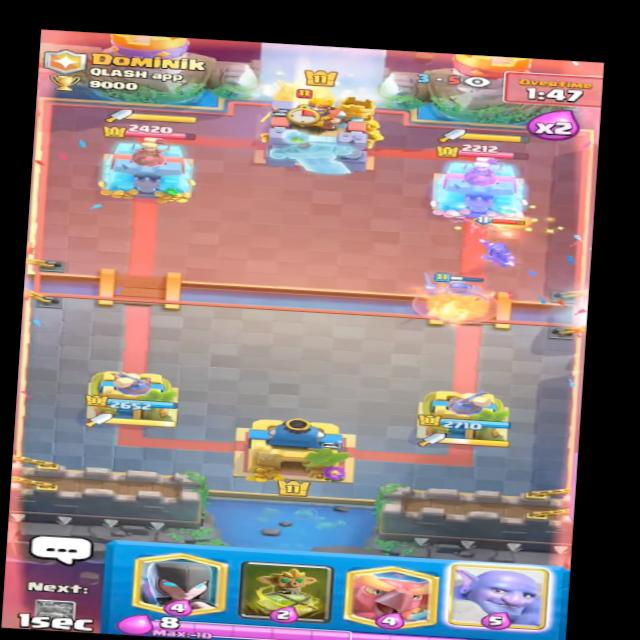Evowizard: (469, 212, 535, 270)
Pekka: (253, 75, 340, 125)
